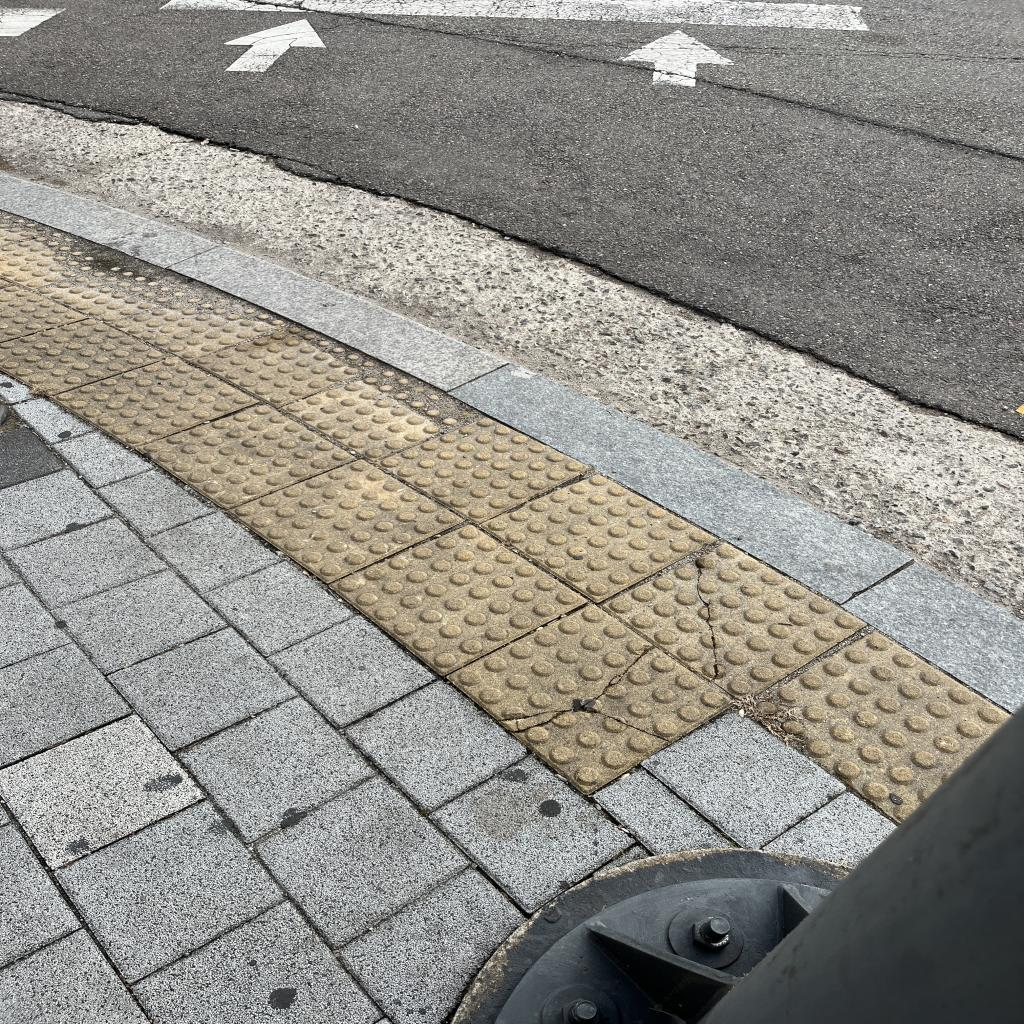Stop block broken: (441, 561, 732, 830), (596, 506, 866, 736)
Stop block normal: (330, 486, 587, 700), (478, 437, 714, 635), (230, 424, 461, 605), (377, 380, 589, 550), (138, 378, 355, 529)
